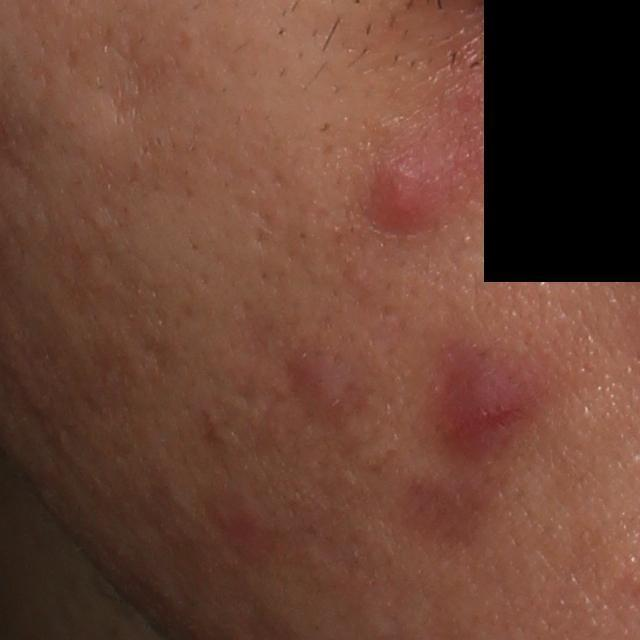atrophic_scar: (105, 24, 184, 124)
papule: (429, 351, 524, 442), (293, 348, 362, 432), (365, 163, 437, 236)
